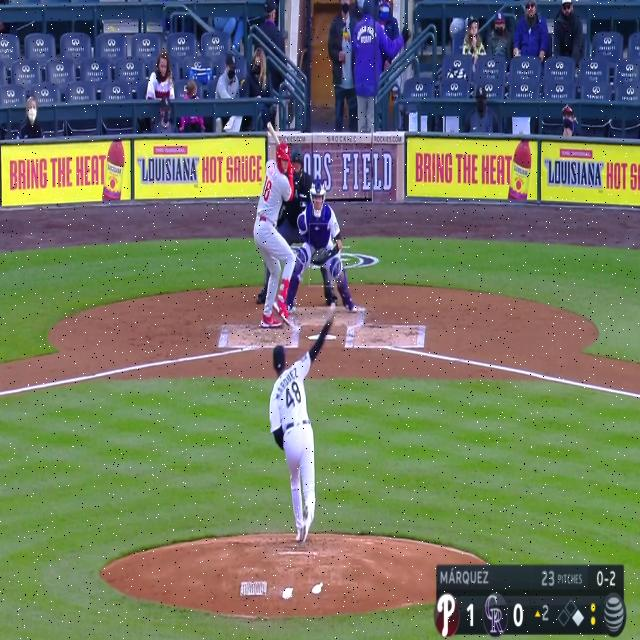baseball: (329, 301, 336, 313)
